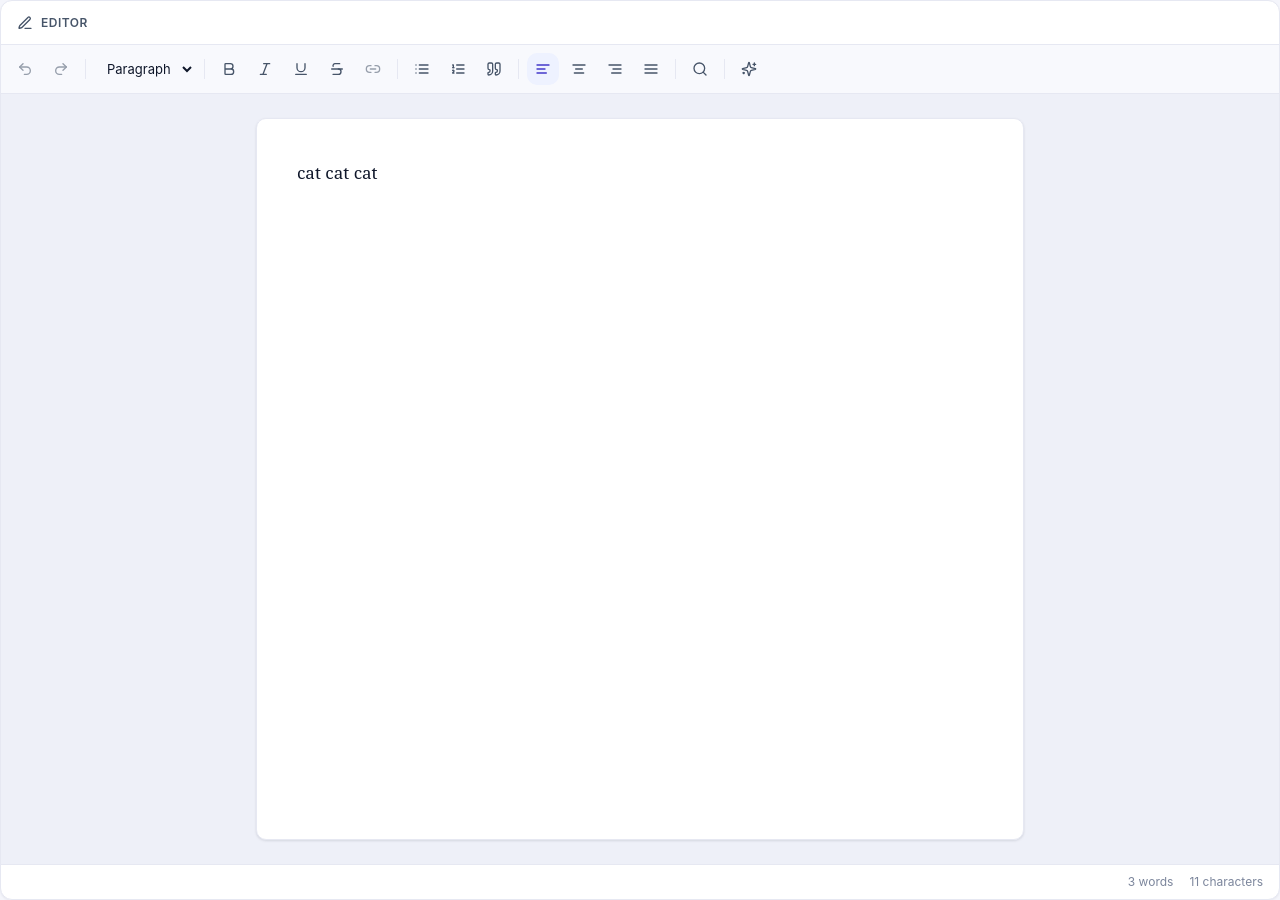
Scenario: Editor find and replace › handles empty queries and zero-result searches safely
Click the button named "Find in document" at (700,69), box [684,53,716,85]
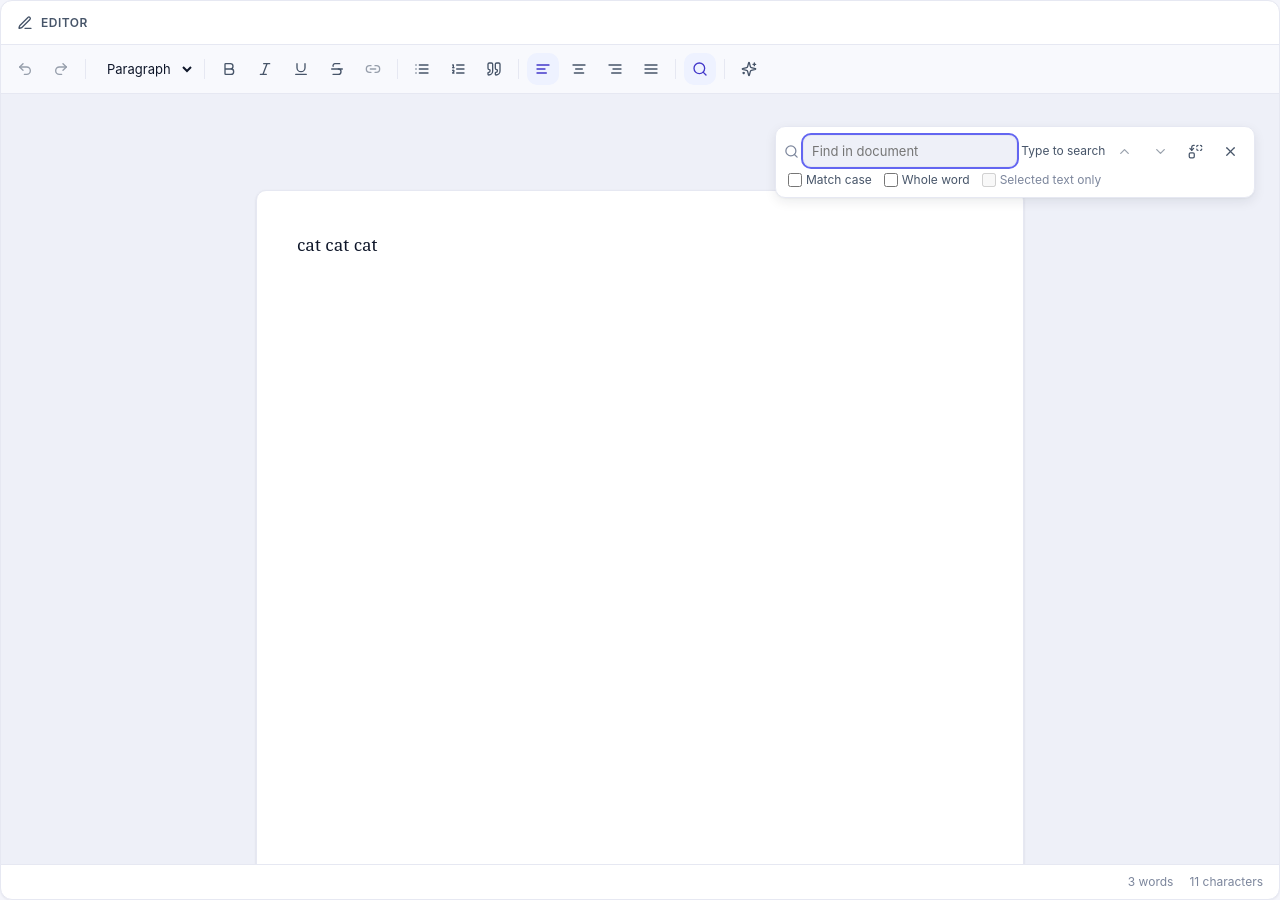
Expected: the button named "Next match" is disabled, [1144,135,1176,167]
Now the form named "Find and replace" is shown, box [775,126,1255,198]
Now the text "Type to search" is shown, box [1021,142,1105,160]
Type "zebra" into the field labelled "Find in document" at (910,151), box [803,135,1017,167]
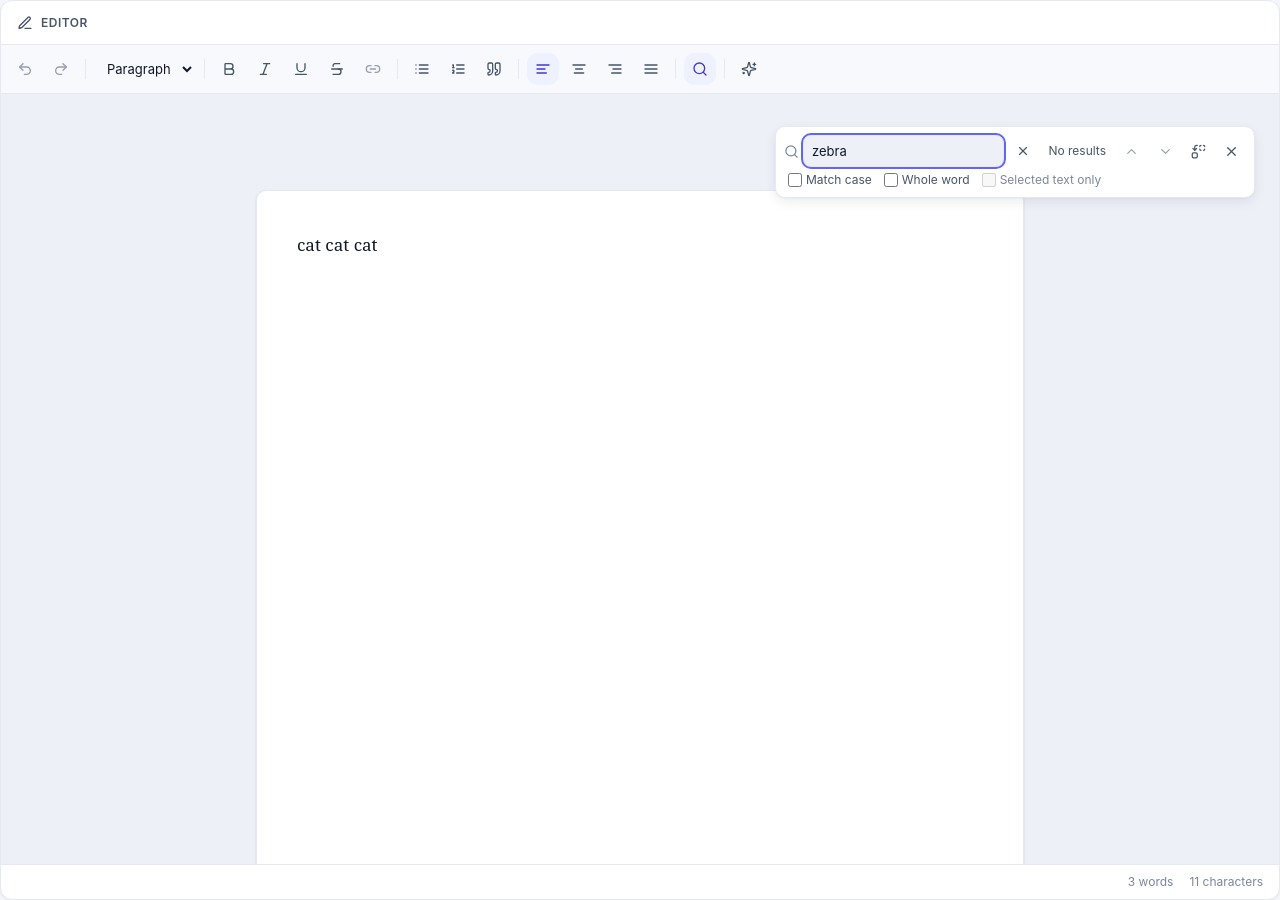
Now the text "No results" is shown, box [1048,143,1106,158]
Click the button named "Toggle replace controls" at (1198,151), box [1184,135,1213,167]
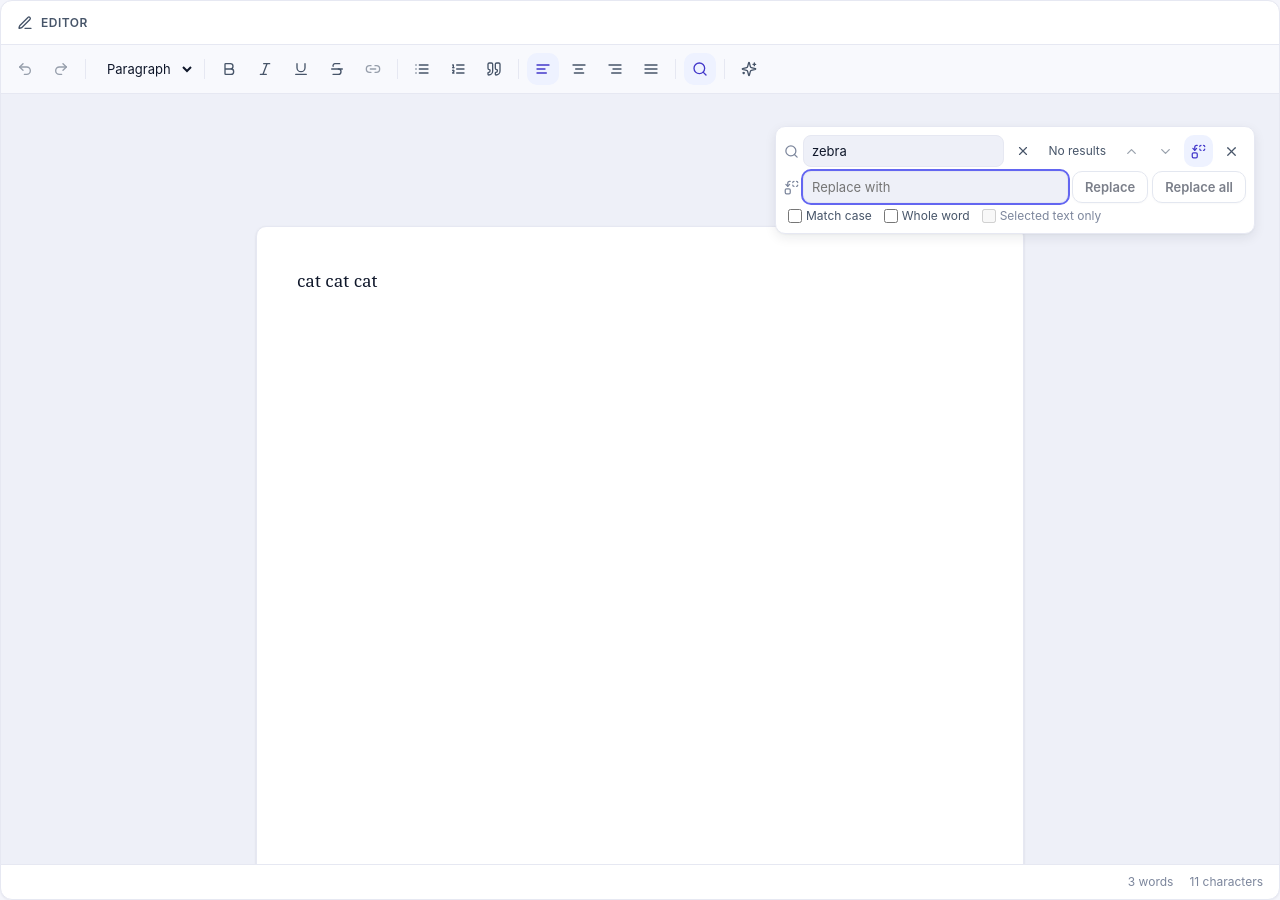
Now the button "Replace" is disabled, box [1072,171,1148,203]
Now the button "Replace all" is disabled, box [1152,171,1246,203]
